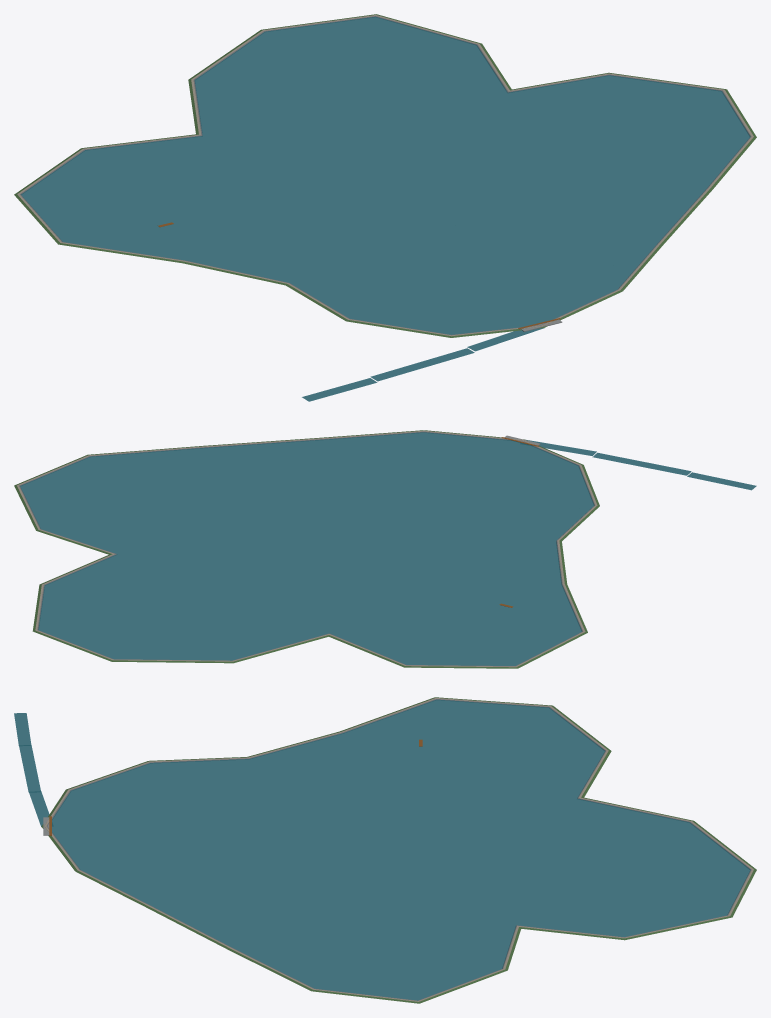
Rendered from water_ho_dankia_mo_rong.glb.
3 views of the same model, one above another, from view 1: azimuth 30°, elevation 25°; view 2: azimuth 150°, elevation 25°; view 3: azimuth 270°, elevation 25° (orthographic). The views are drawn at different scales.
Parts seen in each view (by area): view 1: water_surface_water_ho_dankia_mo_rong, shoreline_terrain_transition_verge_water_ho_dankia_mo_rong, lakeside_promenade_walkway_water_ho_dankia_mo_rong, embankment_stone_coping_water_ho_dankia_mo_rong, headwater_terraces_stream_upper_dankia_to_suoi_vang, embankment_stone_slope_water_ho_dankia_mo_rong; view 2: water_surface_water_ho_dankia_mo_rong, shoreline_terrain_transition_verge_water_ho_dankia_mo_rong, lakeside_promenade_walkway_water_ho_dankia_mo_rong, embankment_stone_coping_water_ho_dankia_mo_rong, headwater_terraces_stream_upper_dankia_to_suoi_vang, embankment_stone_slope_water_ho_dankia_mo_rong; view 3: water_surface_water_ho_dankia_mo_rong, shoreline_terrain_transition_verge_water_ho_dankia_mo_rong, lakeside_promenade_walkway_water_ho_dankia_mo_rong, embankment_stone_coping_water_ho_dankia_mo_rong, headwater_terraces_stream_upper_dankia_to_suoi_vang, embankment_stone_slope_water_ho_dankia_mo_rong.
Boxes of the visible parts, <box> form: water_surface_water_ho_dankia_mo_rong: <box>21,16,750,334</box>; shoreline_terrain_transition_verge_water_ho_dankia_mo_rong: <box>14,14,756,337</box>; lakeside_promenade_walkway_water_ho_dankia_mo_rong: <box>17,15,753,336</box>; embankment_stone_coping_water_ho_dankia_mo_rong: <box>20,16,751,335</box>; headwater_terraces_stream_upper_dankia_to_suoi_vang: <box>302,328,544,401</box>; embankment_stone_slope_water_ho_dankia_mo_rong: <box>21,16,750,287</box>; water_surface_water_ho_dankia_mo_rong: <box>20,432,594,665</box>; shoreline_terrain_transition_verge_water_ho_dankia_mo_rong: <box>14,430,599,668</box>; lakeside_promenade_walkway_water_ho_dankia_mo_rong: <box>17,430,597,667</box>; embankment_stone_coping_water_ho_dankia_mo_rong: <box>19,431,595,666</box>; headwater_terraces_stream_upper_dankia_to_suoi_vang: <box>526,440,756,490</box>; embankment_stone_slope_water_ho_dankia_mo_rong: <box>20,432,594,631</box>; water_surface_water_ho_dankia_mo_rong: <box>52,699,750,1000</box>; shoreline_terrain_transition_verge_water_ho_dankia_mo_rong: <box>41,697,756,1003</box>; lakeside_promenade_walkway_water_ho_dankia_mo_rong: <box>44,698,753,1001</box>; embankment_stone_coping_water_ho_dankia_mo_rong: <box>46,699,751,1000</box>; headwater_terraces_stream_upper_dankia_to_suoi_vang: <box>14,713,49,826</box>; embankment_stone_slope_water_ho_dankia_mo_rong: <box>52,699,750,968</box>.
Size of the model in its own units: 1485 by 6.97 by 1521.
